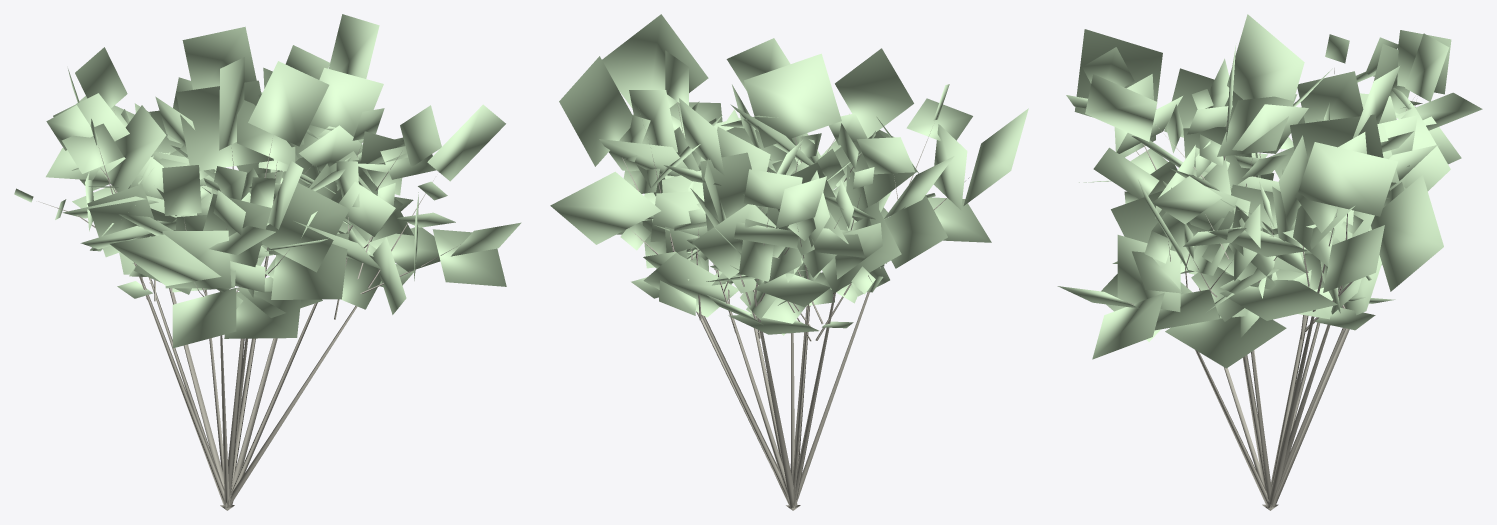
The model's file is bush_2_v0_lod2.glb.
3 renders of one model, left to right at view 1: azimuth 30°, elevation 25°; view 2: azimuth 150°, elevation 25°; view 3: azimuth 270°, elevation 25°, orthographic. The views are drawn at different scales.
Parts seen in each view (by area): view 1: Leaves, Branches; view 2: Leaves, Branches; view 3: Leaves, Branches.
Part boxes in pixels (<box>): Leaves: <box>14,14,521,348</box>; Branches: <box>38,114,460,510</box>; Leaves: <box>550,14,1028,335</box>; Branches: <box>622,102,969,510</box>; Leaves: <box>1057,14,1482,368</box>; Branches: <box>1126,68,1416,510</box>.
Bounding box in the file's own units: 29.75 × 31.64 × 25.24.
